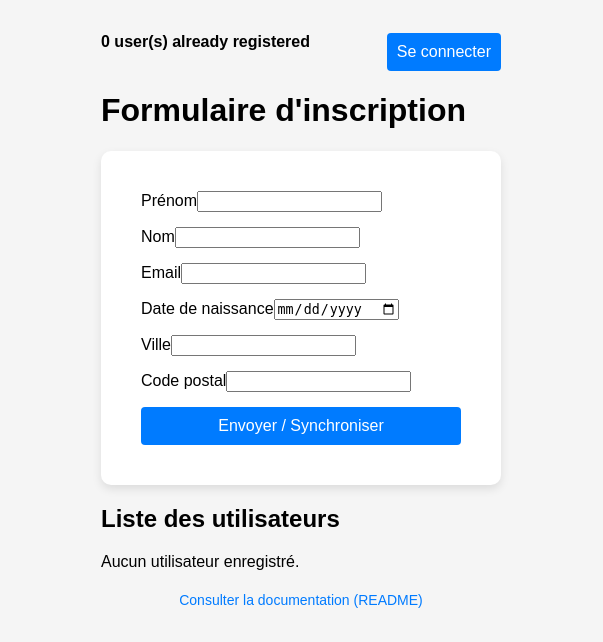
Test: App component › shows validation errors for invalid form data
The image size is (603, 642).
In the field with test id "firstName": (290, 201) [197,191,382,212], type "A"
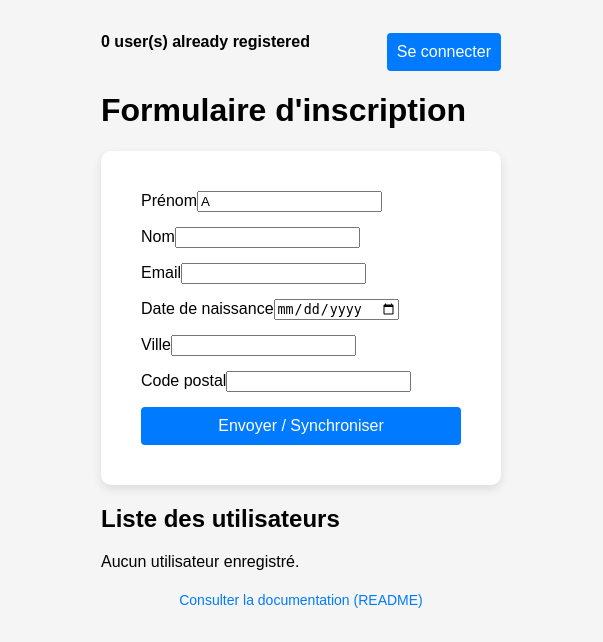
In the field with test id "lastName": (267, 237) [175,227,360,248], type "1"
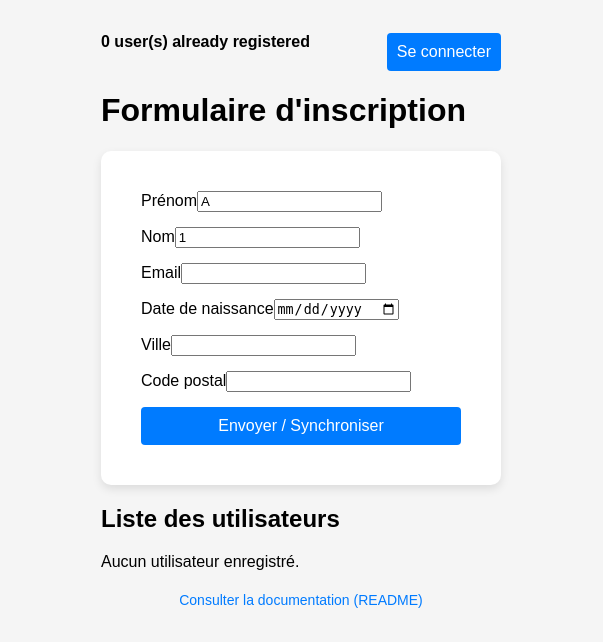
In the field with test id "email": (274, 273) [181,263,366,284], type "email"
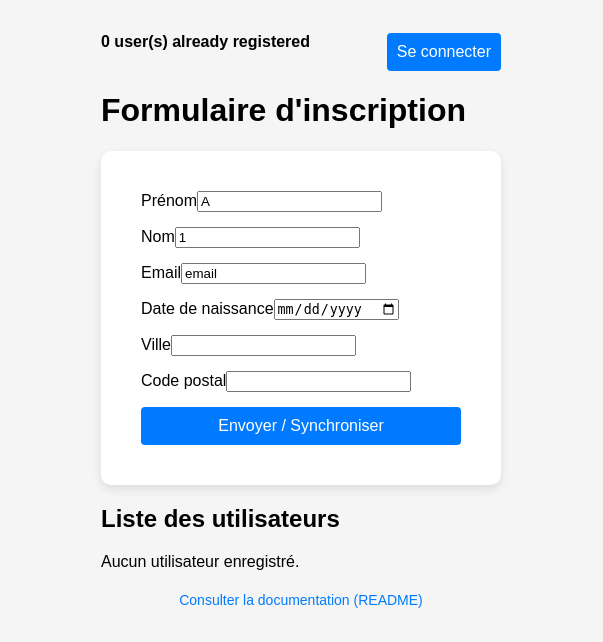
In the date field with test id "birthdate": (336, 310) [274,299,399,320], type "2010-01-01"
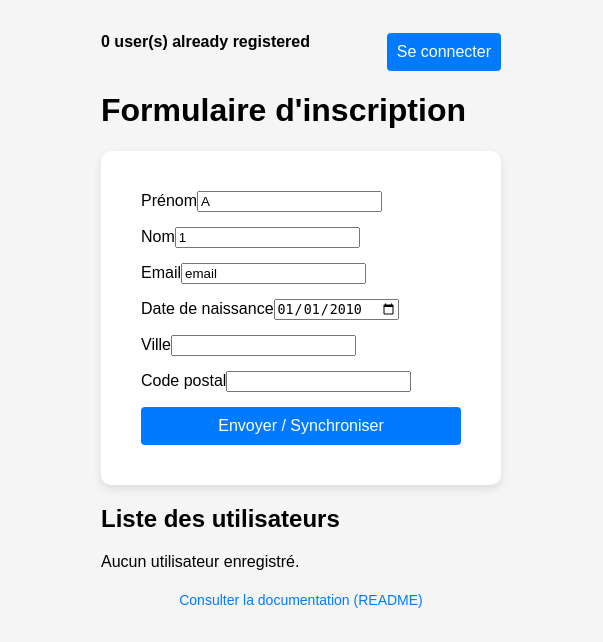
In the field with test id "zipcode": (319, 382) [226,371,411,392], type "7500"
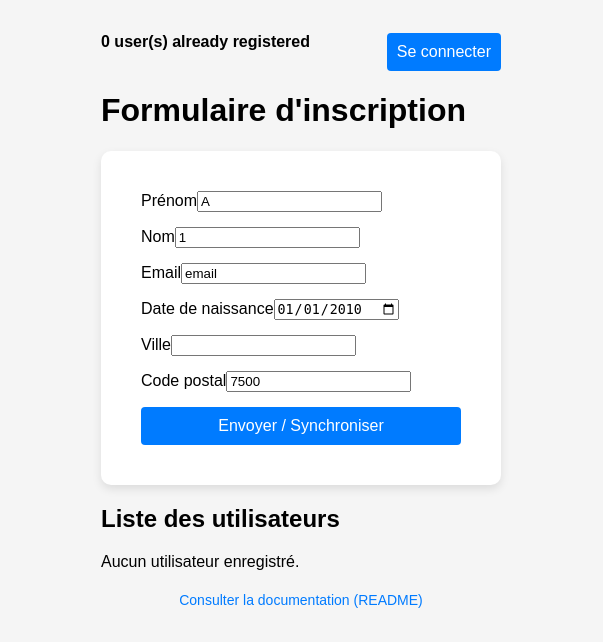
Submit the form with test id "registration-form", box [101,151,501,485]
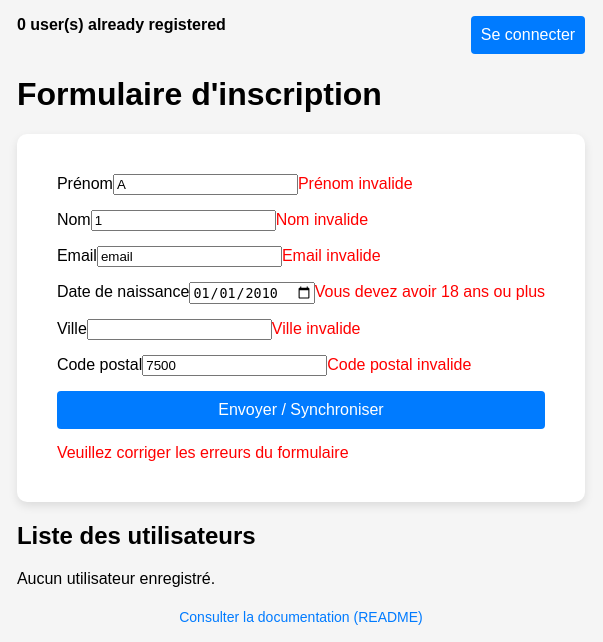
Expected: the message "Veuillez corriger les erreurs du formulaire" is shown, [57,444,349,461]
Expected: the text "Prénom invalide" is shown, [298,175,413,192]
Expected: the text "Nom invalide" is shown, [276,211,368,228]
